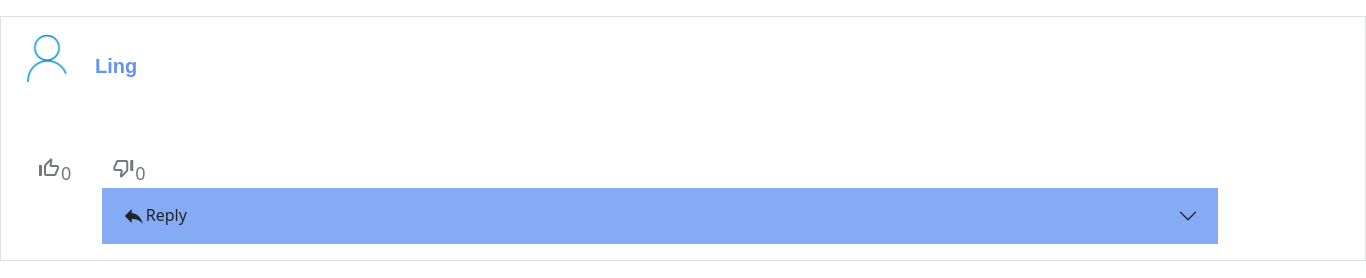
Click like
Click the 1st icon "thumb_up_off_alt" at (49, 168), box [37,156,61,180]
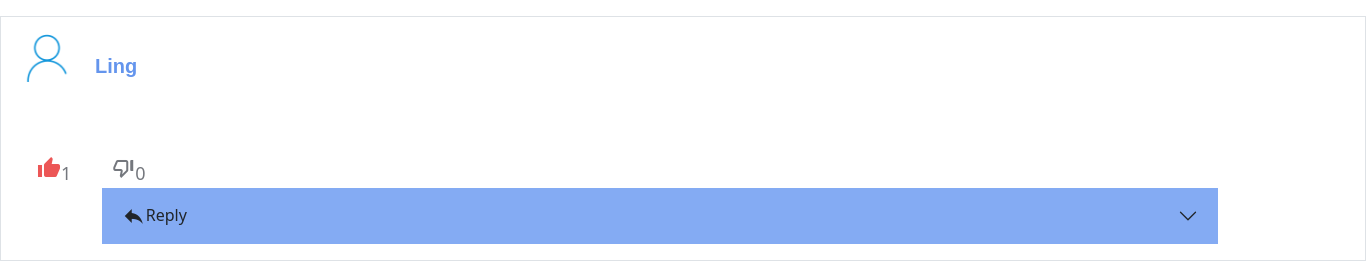
Result: the text "1" is shown at [61,161,71,185]
